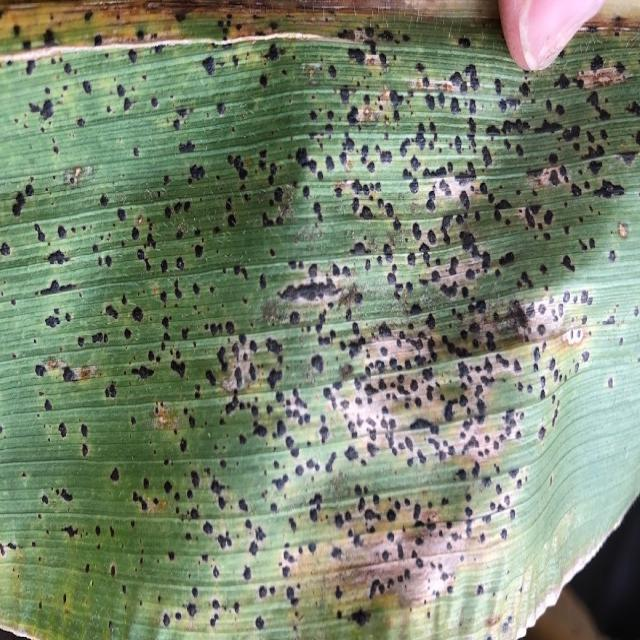Tar_Spot: (1, 12, 637, 637)
